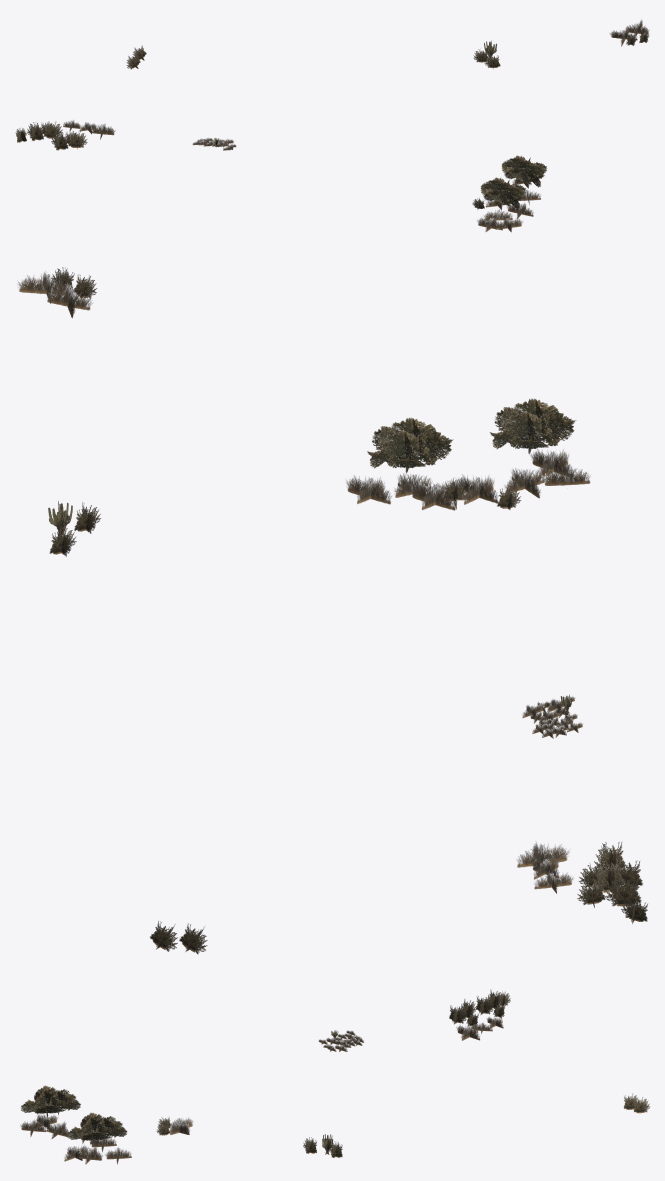
File: 0605worlddeserttransparent_worlddeserttransparentmaterial_0_lev.glb
3 renders of one model, top to bottom at view 1: azimuth 30°, elevation 25°; view 2: azimuth 150°, elevation 25°; view 3: azimuth 270°, elevation 25°, orthographic. The views are drawn at different scales.
Visible parts, largest first — view 1: 0605worlddeserttransparent_worlddeserttransparentmaterial_0_; view 2: 0605worlddeserttransparent_worlddeserttransparentmaterial_0_; view 3: 0605worlddeserttransparent_worlddeserttransparentmaterial_0_.
Boxes of the visible parts, x1,y1,x2,y2 form: 0605worlddeserttransparent_worlddeserttransparentmaterial_0_: (15, 20, 649, 232); 0605worlddeserttransparent_worlddeserttransparentmaterial_0_: (17, 267, 647, 954); 0605worlddeserttransparent_worlddeserttransparentmaterial_0_: (20, 989, 649, 1164).
Bounding box in the file's own units: 23.42 × 6.26 × 25.25.
1 material, 1 textured.
